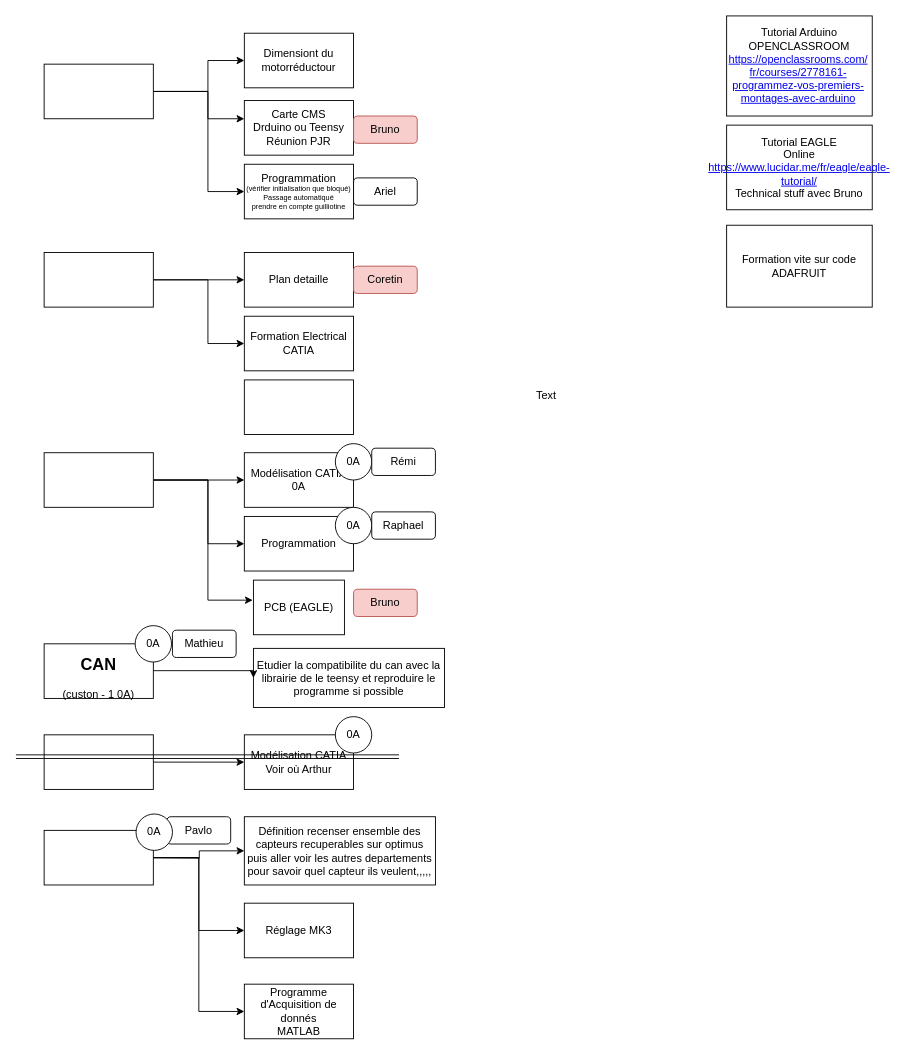
The diagram is 905 pixels wide and 1055 high, and some of its shapes have lost their labels. Here are the shapes that lost their labels. From the top down, the centre of each, then its label:
At pixel 98 91: "Boîte à vitesses".
At pixel 98 279: "Faisceau".
At pixel 298 407: "Assembler".
At pixel 98 479: "Tableau de board".
At pixel 98 761: "Pallete (custon - 1 0A)".
At pixel 98 857: "Sensor (custon - 1 0A)".
